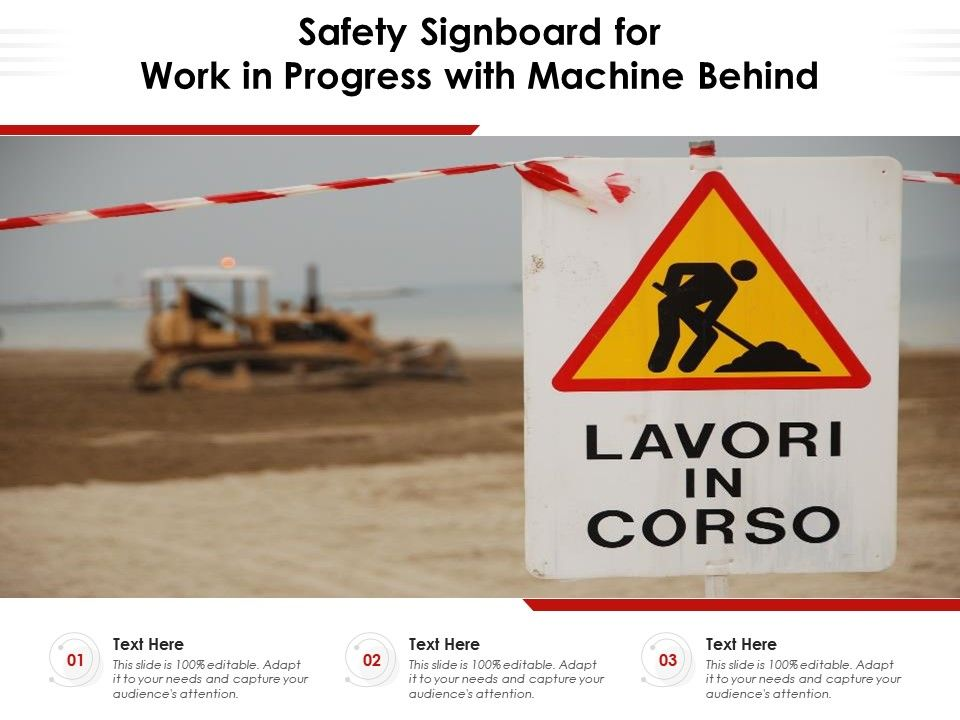caution: (551, 169, 873, 393)
